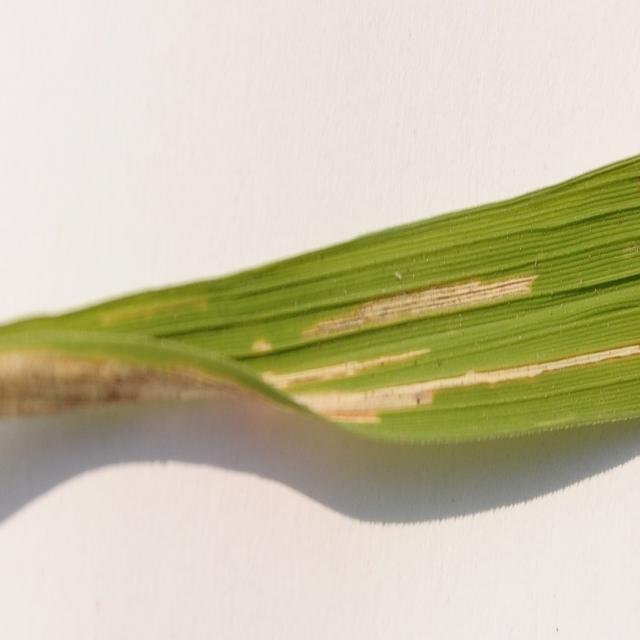leaf blight: (246, 329, 640, 436), (0, 337, 238, 425), (297, 258, 542, 342)
